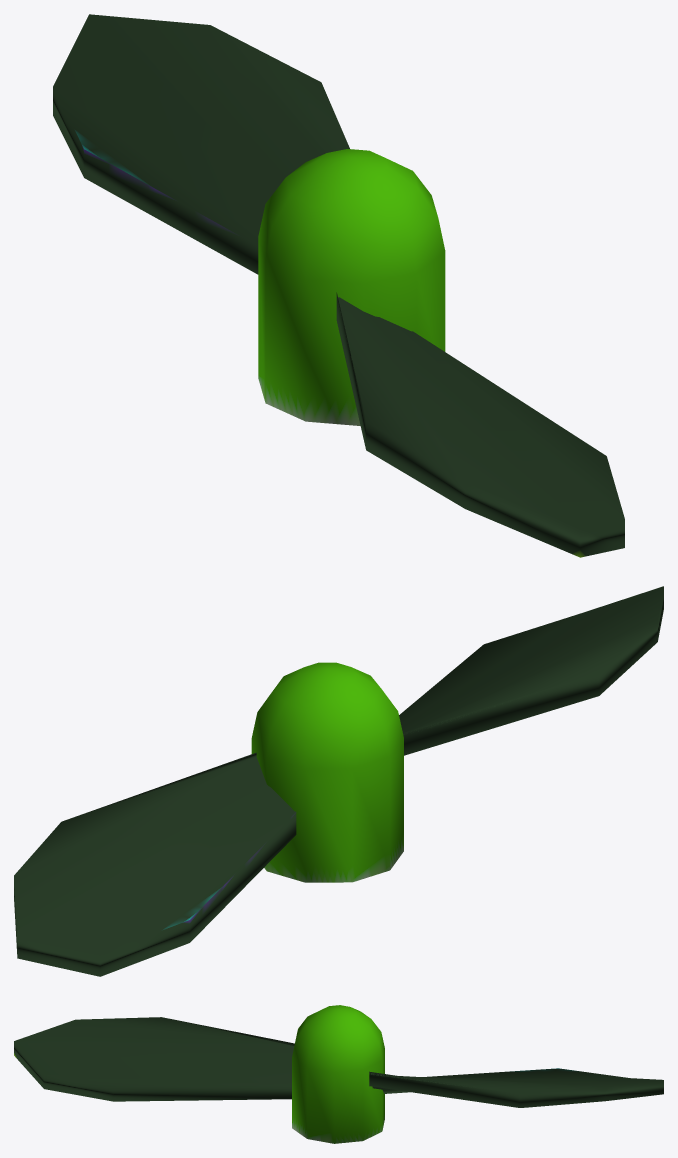
The model's file is SM_Dron_SM_D_Propeller3.fbx.
3 renders of one model, top to bottom at view 1: azimuth 30°, elevation 25°; view 2: azimuth 150°, elevation 25°; view 3: azimuth 270°, elevation 25°, orthographic. The views are drawn at different scales.
Parts seen in each view (by area): view 1: SM_Dron_SM_D_Propeller3; view 2: SM_Dron_SM_D_Propeller3; view 3: SM_Dron_SM_D_Propeller3.
Part boxes in pixels (x1,y1,x2,y2): SM_Dron_SM_D_Propeller3: (53,14,624,557); SM_Dron_SM_D_Propeller3: (14,586,663,976); SM_Dron_SM_D_Propeller3: (14,1005,663,1143).
Size of the model in its own units: 6.61 by 23.69 by 4.6.
Materials: 1 (1 with a texture image).
